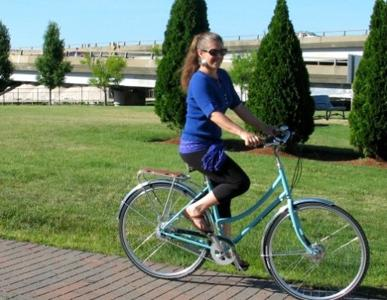person: (179, 31, 280, 266)
